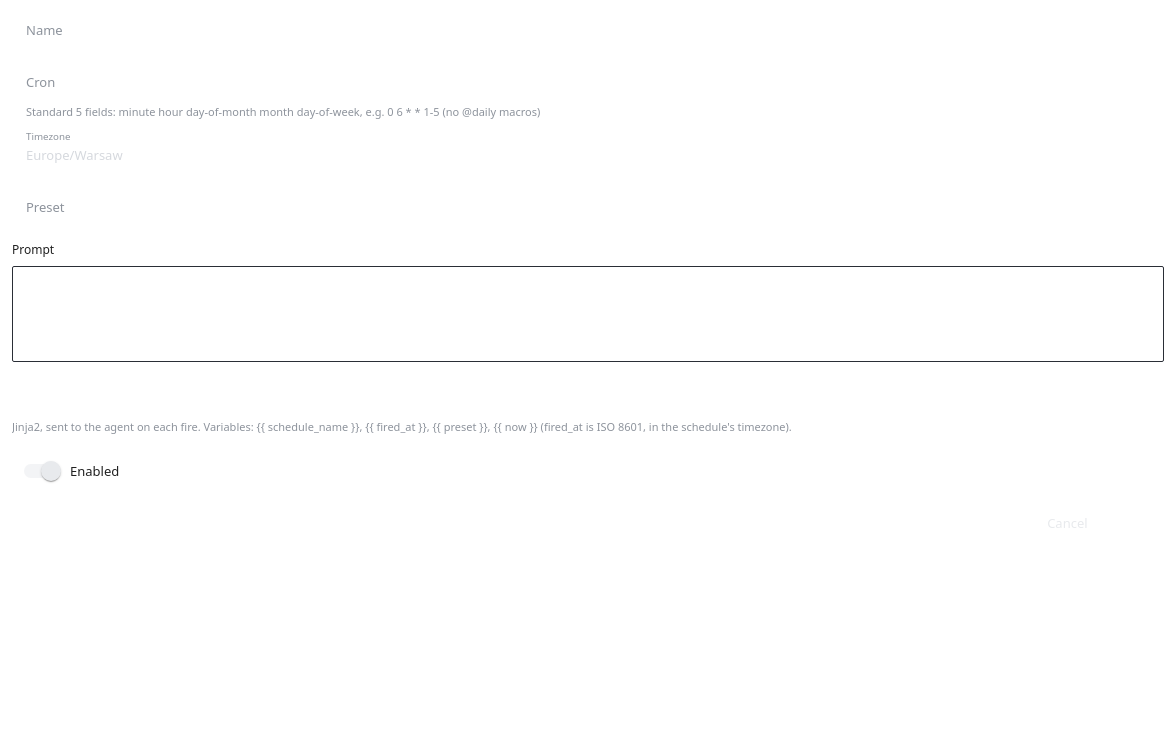
Test case: defaults › defaults timezone to Europe/Warsaw, loads presets and hints the placeholders
Expected: the dropdown named "Timezone" reads "Europe/Warsaw", [26,146,123,164]
Expected: the text "5 fields" is shown, [26,104,540,119]
Click the dropdown named "Preset" at (588, 207), box [12,189,1164,225]
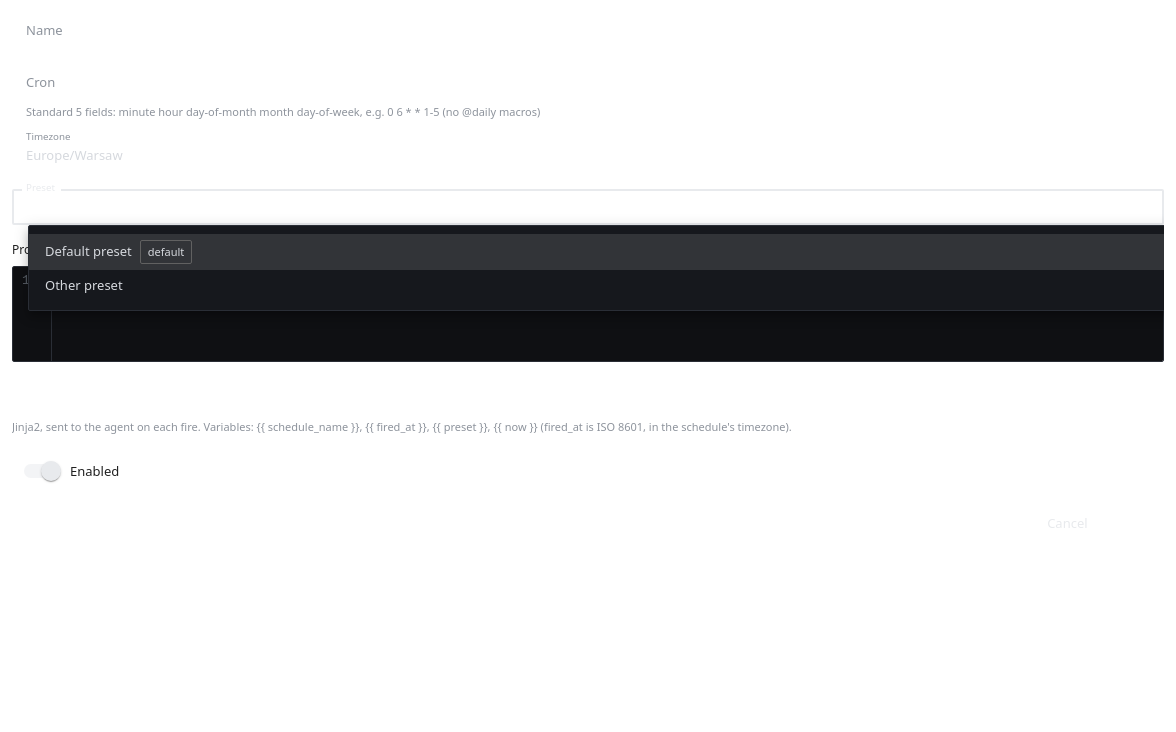
Expected: the switch labelled "Enabled" is checked, [24,461,119,481]
Result: the option "Other preset" is shown at [45,276,123,294]
